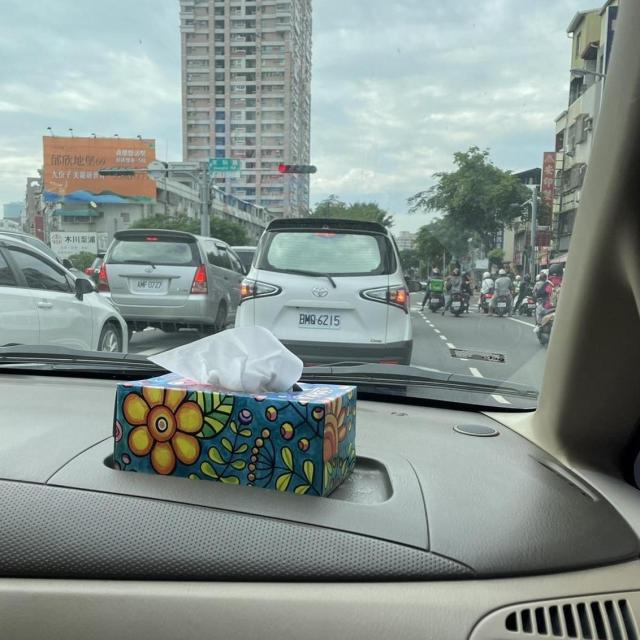W: (290, 306, 348, 333), (133, 276, 166, 292), (492, 298, 512, 311), (449, 298, 465, 310), (427, 295, 443, 306)
